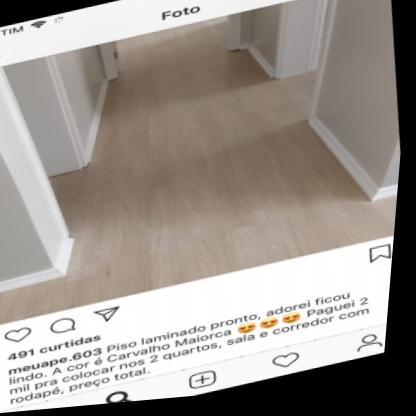Wooden floor: (0, 21, 401, 327)
